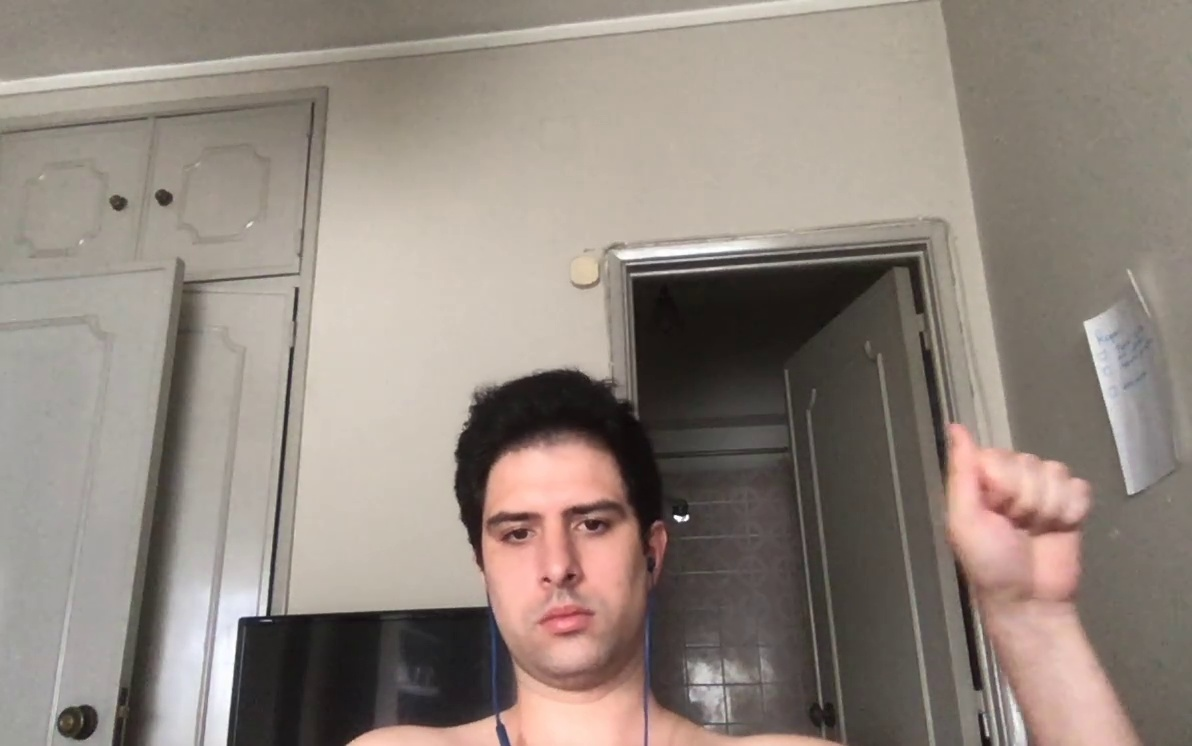a: (935, 412, 1114, 615)
